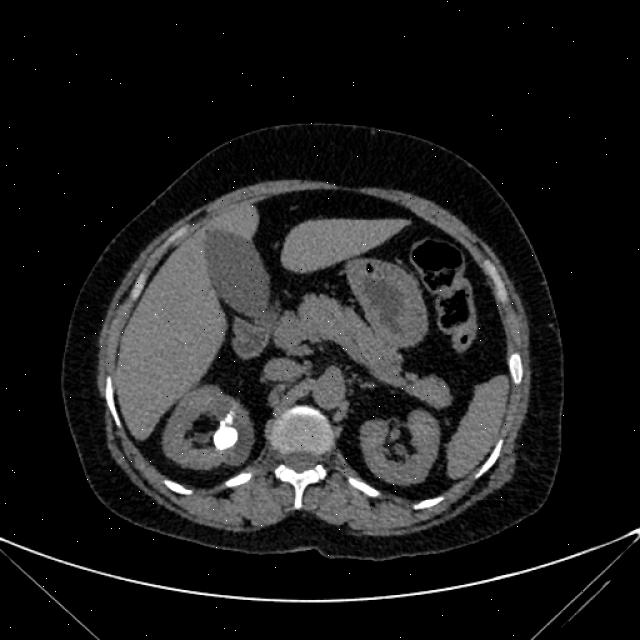kidneystone: (212, 410, 238, 450)
